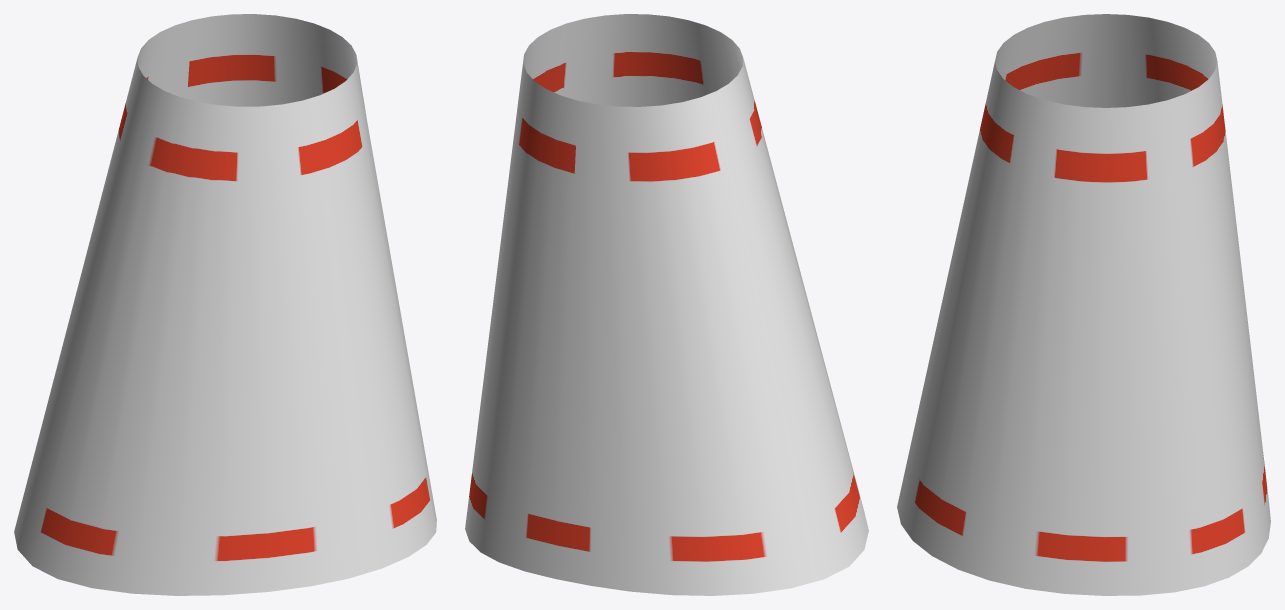
Rendered from reimu_rsleeve.glb.
3 renders of one model, left to right at view 1: azimuth 30°, elevation 25°; view 2: azimuth 150°, elevation 25°; view 3: azimuth 270°, elevation 25°, orthographic.
Parts seen in each view (by area): view 1: reimu_rsleeve; view 2: reimu_rsleeve; view 3: reimu_rsleeve.
Part boxes in pixels (bbox=[...]): reimu_rsleeve: bbox=[14, 14, 436, 595]; reimu_rsleeve: bbox=[465, 14, 868, 595]; reimu_rsleeve: bbox=[897, 14, 1270, 595].
Size of the model in its own units: 0.4649 by 0.5667 by 0.4118.
Materials: 1 (1 with a texture image).
